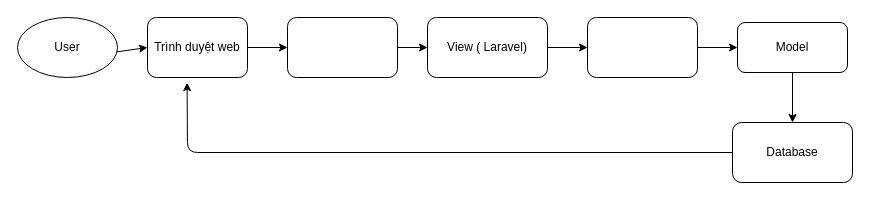
This 870x200 diagram has some shape labels left out. Here are the shapes that lost their labels. From the top down, the centre of each, then its label:
the point at 342,47: Router ( Laravel)
the point at 642,47: Controllers (Laravel)
